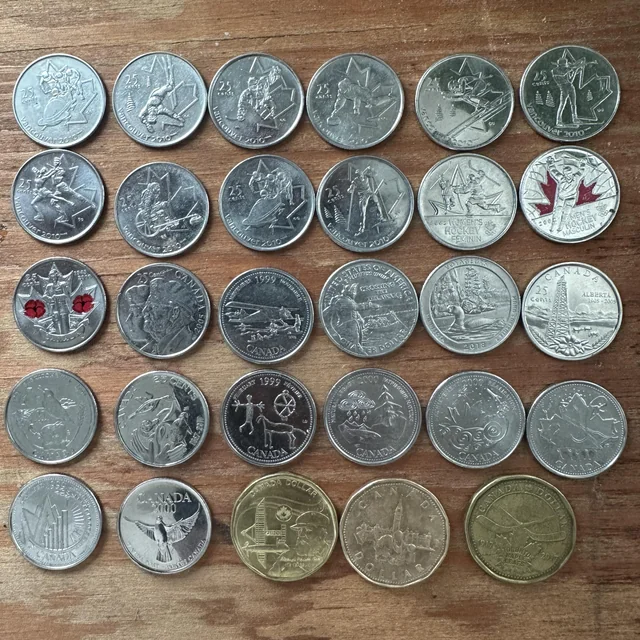coin: (465, 475, 575, 582), (340, 479, 448, 586), (230, 472, 337, 580), (319, 259, 418, 357), (420, 256, 520, 353), (522, 262, 622, 359), (527, 380, 626, 477), (519, 146, 619, 242), (426, 371, 525, 467), (520, 45, 619, 141), (417, 154, 517, 249), (323, 368, 420, 465), (415, 54, 513, 149), (307, 53, 403, 149), (220, 370, 316, 466), (218, 267, 313, 363), (218, 155, 314, 250), (317, 156, 413, 251), (208, 53, 303, 148), (117, 478, 211, 573), (116, 263, 210, 358), (112, 52, 206, 146), (115, 371, 208, 466), (115, 162, 208, 257), (9, 474, 101, 569), (11, 150, 104, 243), (13, 53, 105, 147), (13, 257, 105, 351), (5, 369, 97, 463)
